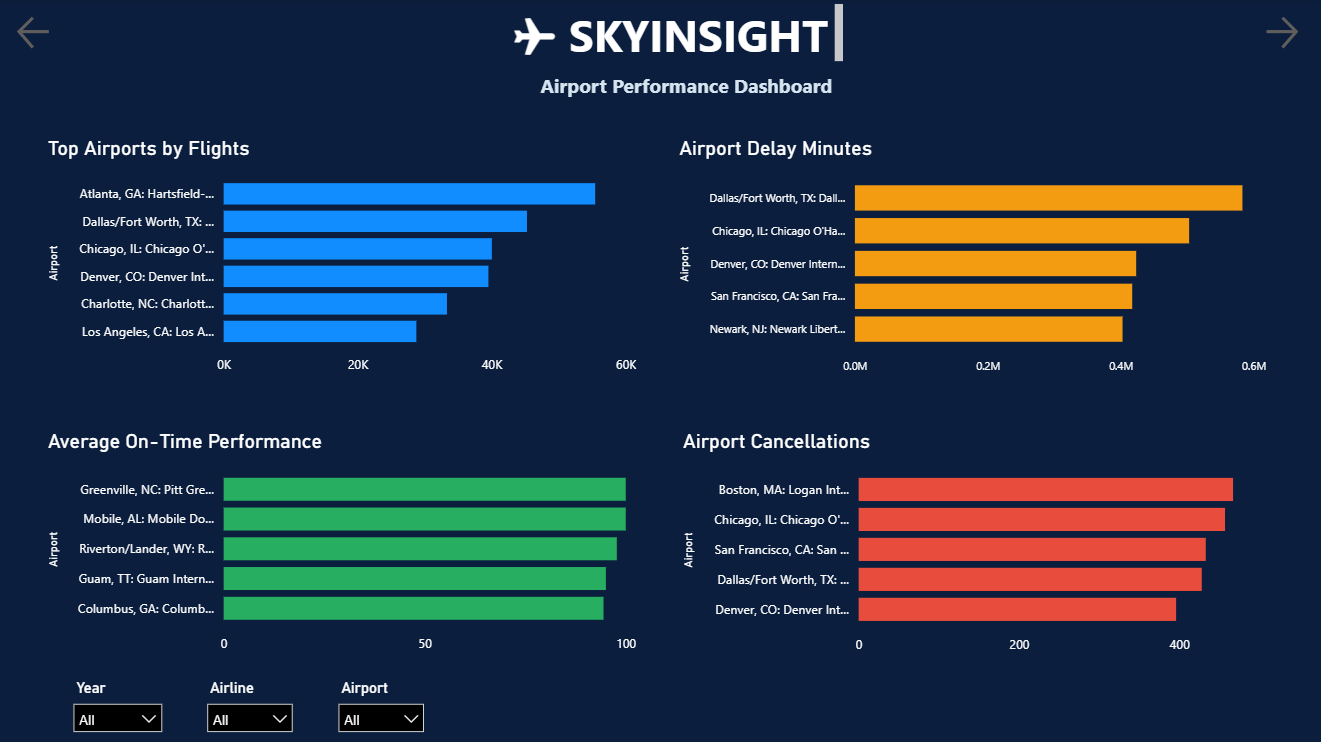

Layout of this report page (visuals, bound fields, positions):
{"tool":"powerbi","page":{"name":"Airport Performance ","canvas":[1280,720],"ordinal":1},"visuals":[{"type":"textbox","box":[484.4,0,334.8,65.9],"z":0},{"type":"textbox","box":[517.3,65.9,366.4,38.4],"z":1000},{"type":"slicer","fields":{"Values":["airline_operations_cleaned.Year"]},"box":[61.7,651.8,105.7,68.6],"z":2000},{"type":"slicer","fields":{"Values":["airline_operations_cleaned.Airline"]},"box":[190.7,651.8,102.9,68.6],"z":3000},{"type":"slicer","fields":{"Values":["airline_operations_cleaned.Airport"]},"box":[317,651.8,102.9,68.6],"z":4000},{"type":"clusteredBarChart","title":"Top Airports by Flights","fields":{"Category":["airline_operations_cleaned.Airport"],"Y":["Sum(airline_operations_cleaned.Total_Flights)"]},"box":[42.2,132.7,577.9,238.9],"z":5000},{"type":"barChart","title":"Airport Delay Minutes","fields":{"Category":["airline_operations_cleaned.Airport"],"Y":["Sum(airline_operations_cleaned.Total_Delay_Minutes)"]},"box":[651.5,132.7,576.7,238.9],"z":6000},{"type":"clusteredBarChart","title":"Average On-Time Performance","fields":{"Category":["airline_operations_cleaned.Airport"],"Y":["Avg(airline_operations_cleaned.On_Time_Percentage)"]},"box":[42.2,416.2,577.9,224.4],"z":7000},{"type":"clusteredBarChart","title":"Airport Cancellations","fields":{"Category":["airline_operations_cleaned.Airport"],"Y":["Sum(airline_operations_cleaned.Cancelled_Flights)"]},"box":[655.1,416.2,576.7,225.6],"z":8000},{"type":"actionButton","box":[13.6,11.9,100.4,40.9],"z":9000},{"type":"actionButton","box":[1217,11.9,63,40.9],"z":10000}]}

Visuals, with their boxes in screenshot pixels (x1, y1, x2, y2), scaled from the page's 1280x720 canvas onto the 1321x742 screenshot:
textbox: [500, 0, 845, 68]
textbox: [534, 68, 912, 107]
slicer - airline_operations_cleaned.Year: [64, 672, 173, 741]
slicer - airline_operations_cleaned.Airline: [197, 672, 303, 741]
slicer - airline_operations_cleaned.Airport: [327, 672, 433, 741]
"Top Airports by Flights" clusteredBarChart: [44, 137, 640, 383]
"Airport Delay Minutes" barChart: [672, 137, 1268, 383]
"Average On-Time Performance" clusteredBarChart: [44, 429, 640, 660]
"Airport Cancellations" clusteredBarChart: [676, 429, 1271, 661]
actionButton: [14, 12, 118, 54]
actionButton: [1256, 12, 1320, 54]
